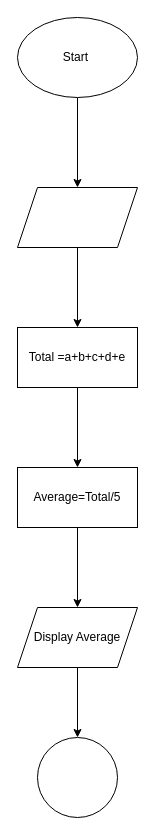
This 155x835 diagram has some shape labels left out. Here are the shapes that lost their labels. From the top down, the centre of each, then its label:
At (77,217): "a,b,c,d,e".
At (77,777): "End".
